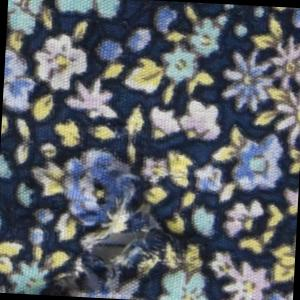Damage: (15, 178, 225, 300)
